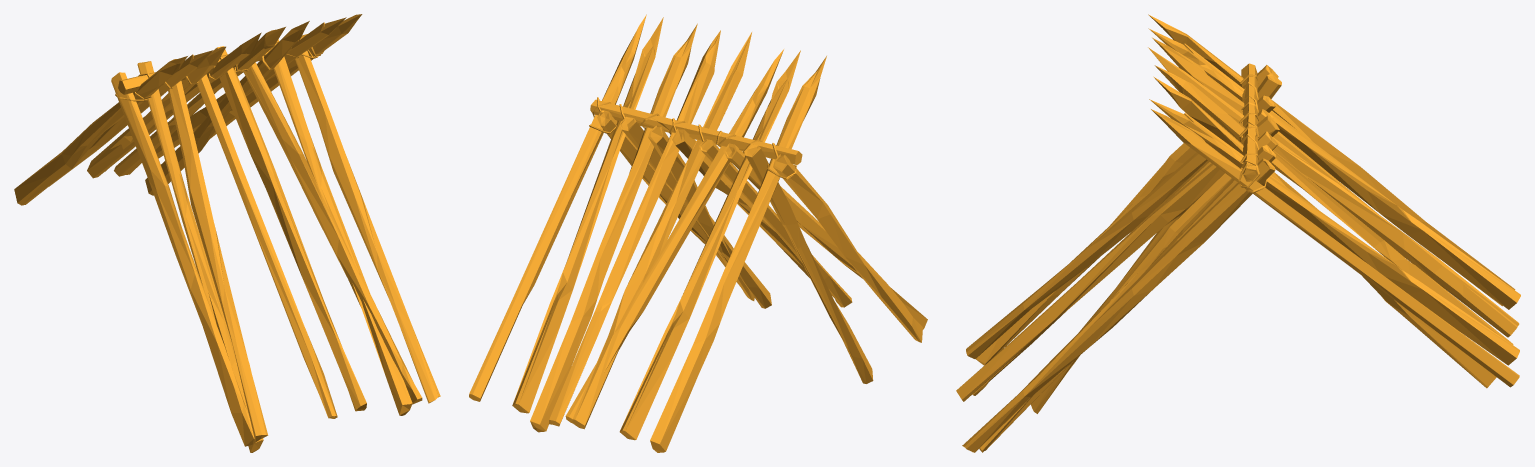
File: SM_Barricade_Directional_A.fbx
The picture shows the model from 3 angles, left to right: view 1: azimuth 30°, elevation 25°; view 2: azimuth 150°, elevation 25°; view 3: azimuth 270°, elevation 25°; orthographic projection. The views are drawn at different scales.
Visible parts, largest first — view 1: barricade-directional-a; view 2: barricade-directional-a; view 3: barricade-directional-a.
Part boxes in pixels (left/top/right/bottom): barricade-directional-a: left=14, top=14, right=440, bottom=452; barricade-directional-a: left=469, top=14, right=927, bottom=452; barricade-directional-a: left=956, top=14, right=1520, bottom=452.
Size of the model in its own units: 2.95 by 5.14 by 6.62.
